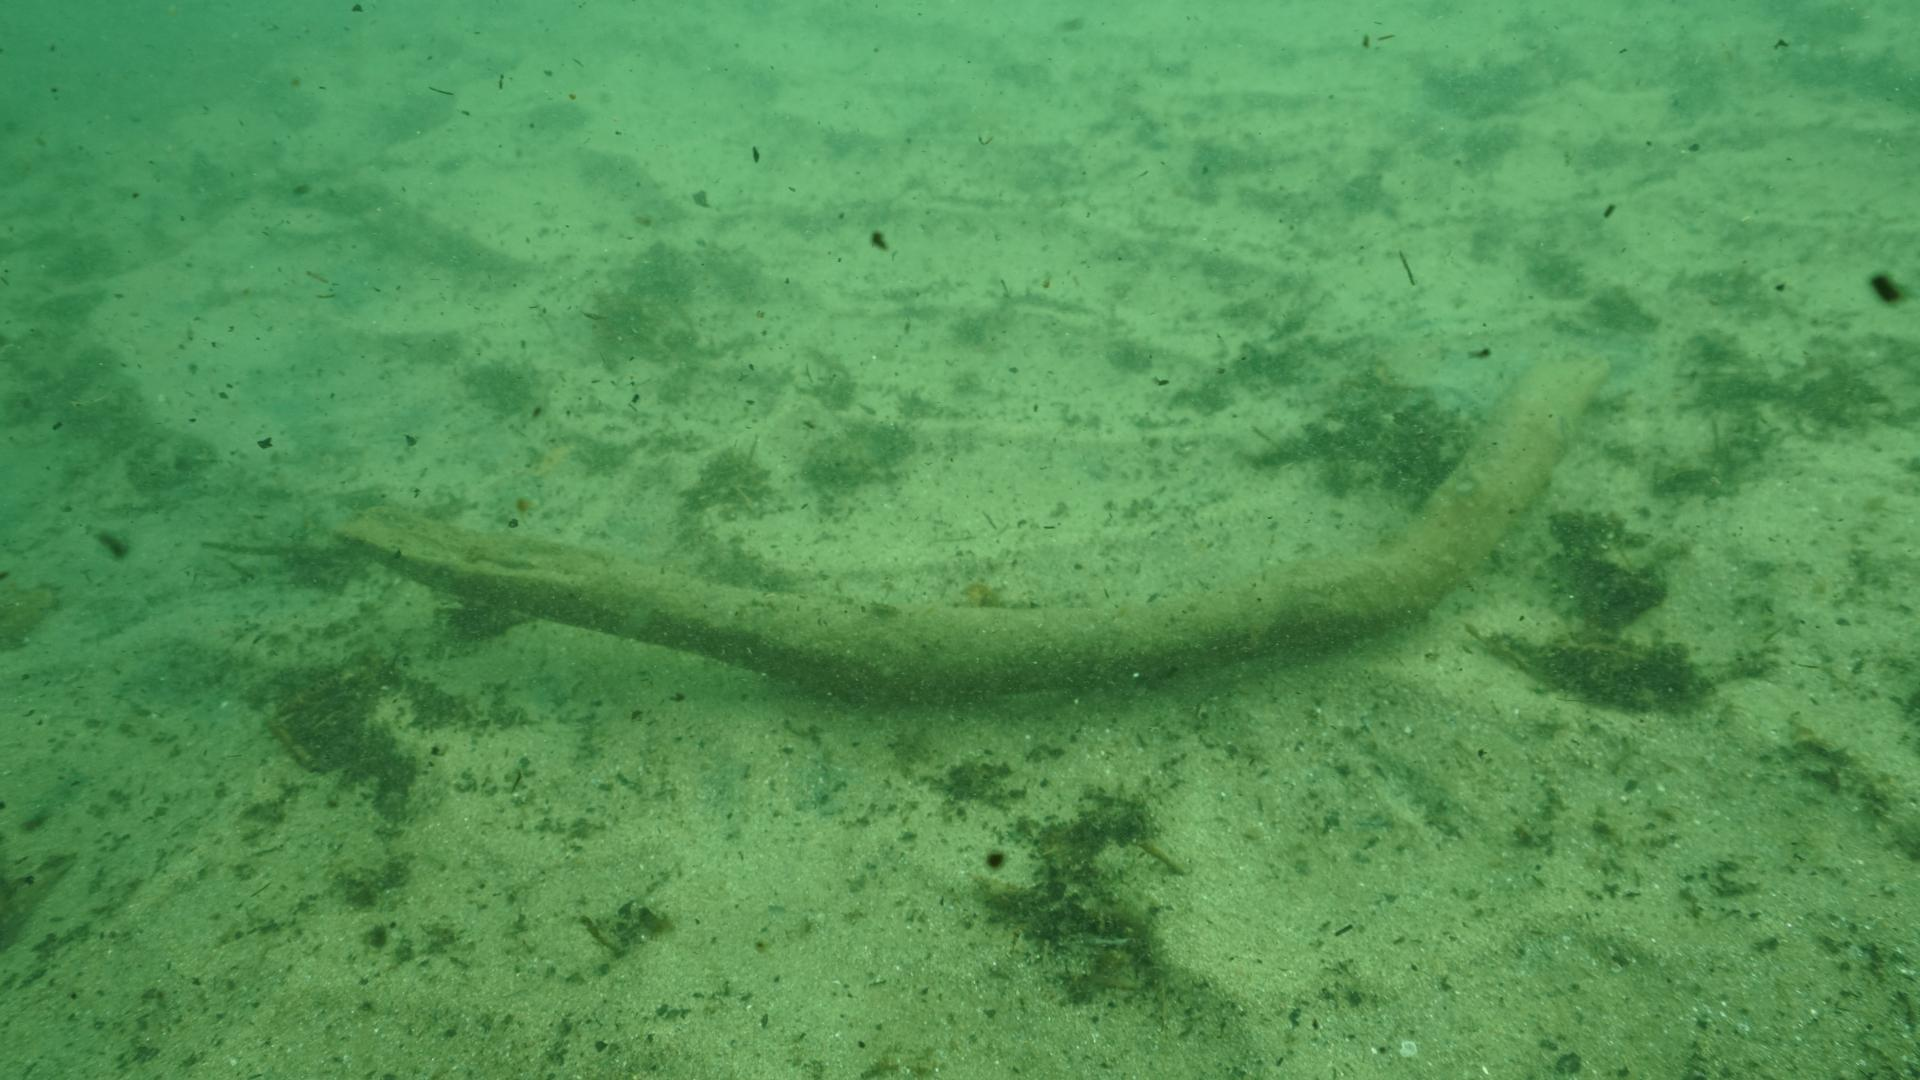wood: (328, 345, 1615, 705)
